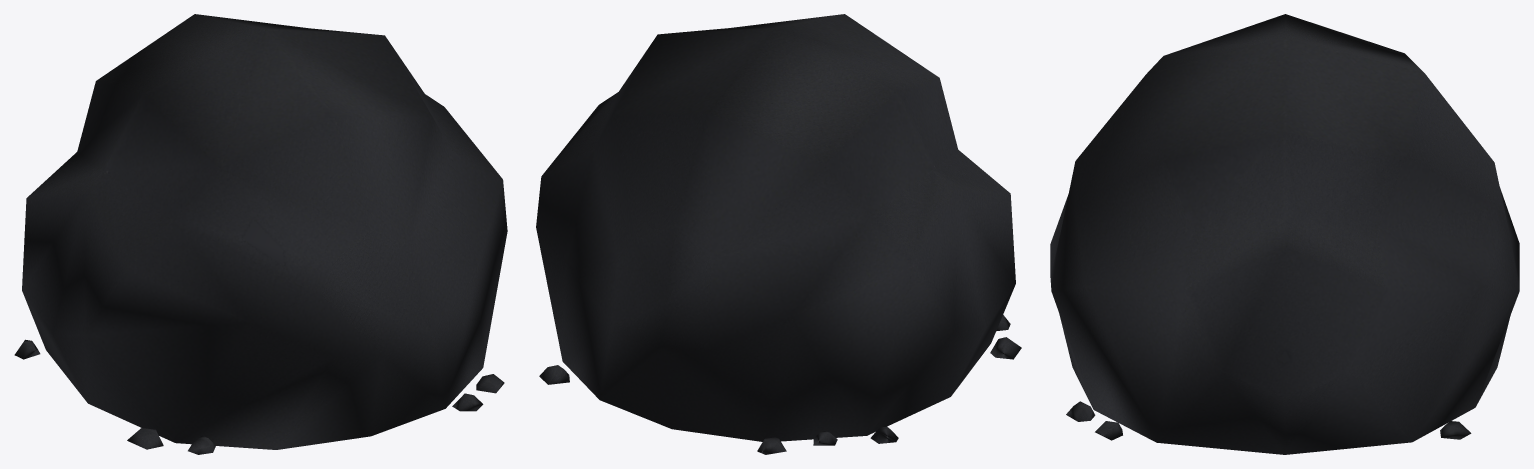
The model's file is Meshy_AI_Obsidian_Boulder_0831110605_texture.fbx.
3 renders of one model, left to right at view 1: azimuth 30°, elevation 25°; view 2: azimuth 150°, elevation 25°; view 3: azimuth 270°, elevation 25°, orthographic.
Parts seen in each view (by area): view 1: mesh_node; view 2: mesh_node; view 3: mesh_node.
Boxes of the visible parts, left/top/right/bottom form: mesh_node: left=14, top=14, right=507, bottom=454; mesh_node: left=536, top=14, right=1021, bottom=454; mesh_node: left=1050, top=14, right=1519, bottom=454.
Size of the model in its own units: 100 by 74.61 by 95.7.
1 material, 1 textured.
